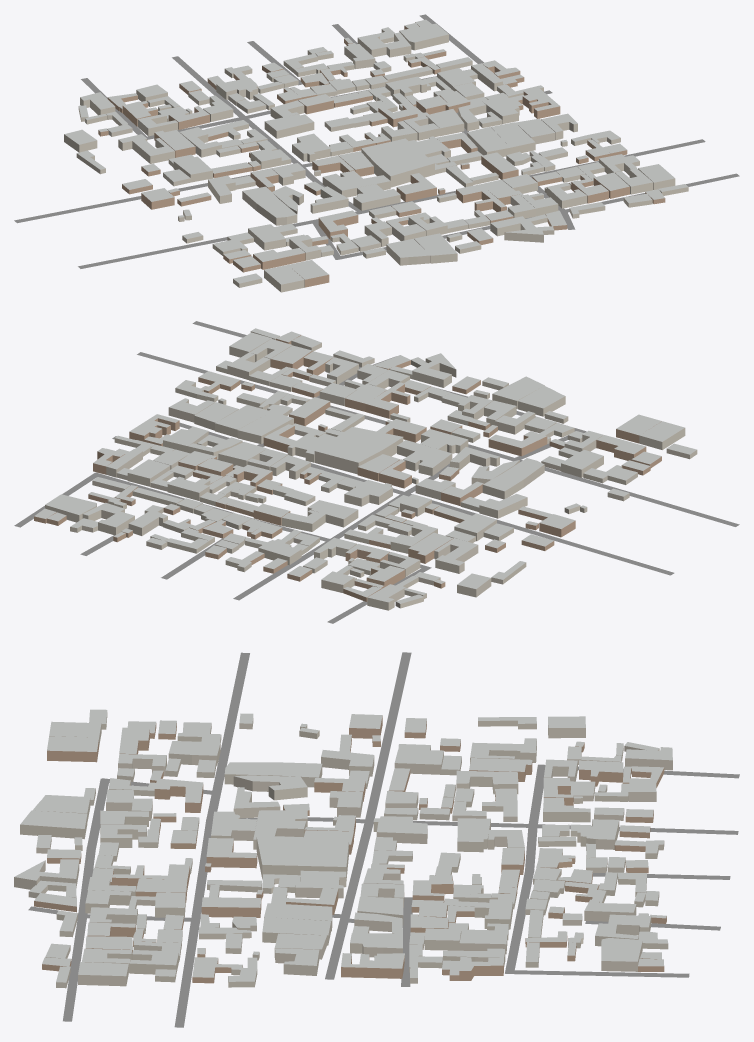
Rendered from bolak_-15_3.glb.
3 views of the same model, one above another, from view 1: azimuth 30°, elevation 25°; view 2: azimuth 150°, elevation 25°; view 3: azimuth 270°, elevation 25° (orthographic). The views are drawn at different scales.
Visible parts, largest first — view 1: Tom_Shifer, Devor_Suvoq-col, Devor_Gisht-col, Yol_Mahalla; view 2: Tom_Shifer, Devor_Suvoq-col, Devor_Gisht-col, Yol_Mahalla; view 3: Tom_Shifer, Devor_Suvoq-col, Yol_Mahalla, Devor_Gisht-col.
Boxes of the visible parts, bbox=[...] form: Tom_Shifer: bbox=[64, 19, 688, 284]; Devor_Suvoq-col: bbox=[64, 29, 688, 292]; Devor_Gisht-col: bbox=[98, 22, 665, 287]; Yol_Mahalla: bbox=[14, 14, 739, 268]; Tom_Shifer: bbox=[34, 328, 696, 603]; Devor_Suvoq-col: bbox=[45, 331, 697, 610]; Devor_Gisht-col: bbox=[34, 335, 661, 601]; Yol_Mahalla: bbox=[14, 321, 739, 623]; Tom_Shifer: bbox=[14, 709, 672, 982]; Devor_Suvoq-col: bbox=[14, 712, 672, 988]; Yol_Mahalla: bbox=[28, 652, 739, 1027]; Devor_Gisht-col: bbox=[34, 716, 666, 983].
Size of the model in its own units: 573 by 10.4 by 469.
